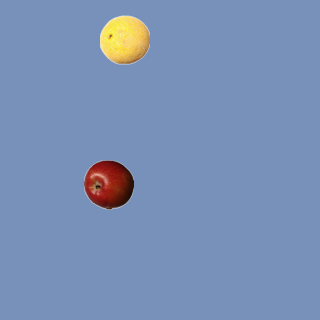Apple Braeburn: (83, 159, 133, 209)
Cantaloupe 1: (99, 14, 149, 64)
